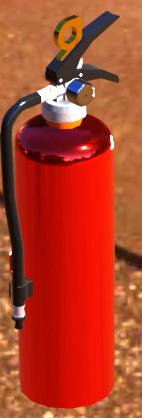fire_extinguisher: (0, 1, 142, 418)
